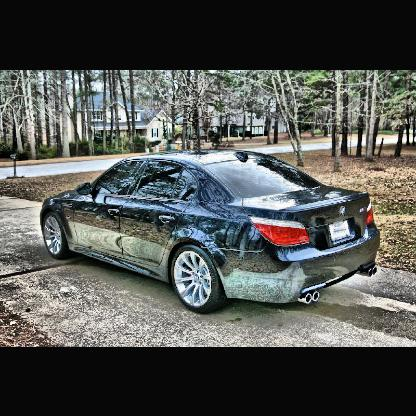BMW M5 Sedan 2010: (41, 150, 381, 314)
